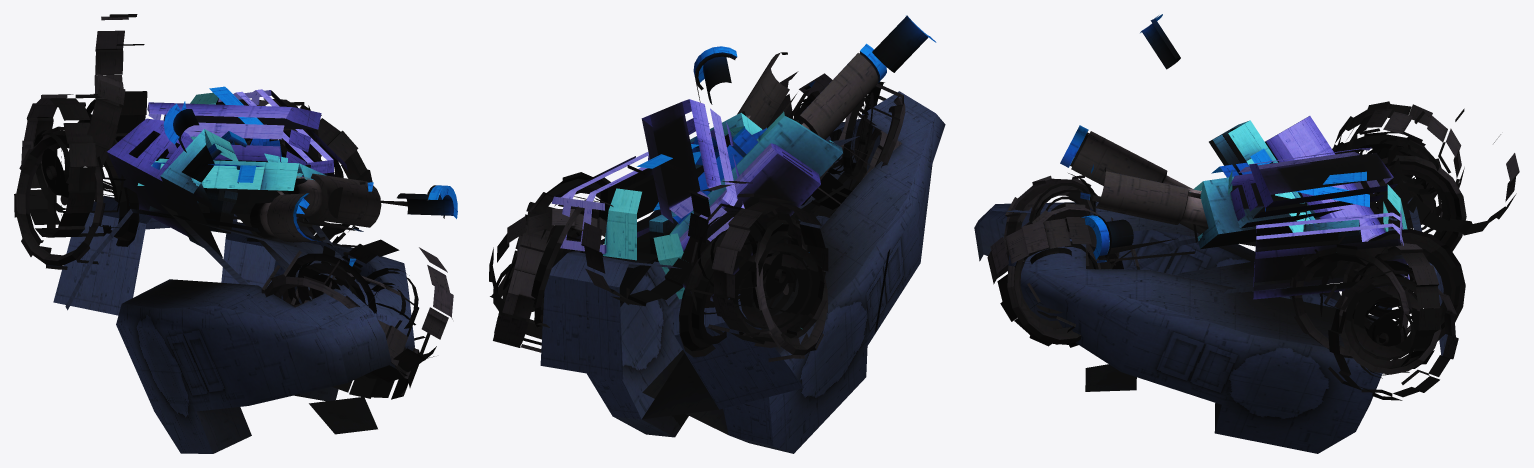
Rendered from PlayerA_Die13.obj.
3 renders of one model, left to right at view 1: azimuth 30°, elevation 25°; view 2: azimuth 150°, elevation 25°; view 3: azimuth 270°, elevation 25°, orthographic. The views are drawn at different scales.
Visible parts, largest first — view 1: Object001; view 2: Object001; view 3: Object001.
Part boxes in pixels (box(x1,y1,x2,y2)): Object001: box(14, 14, 457, 453); Object001: box(489, 15, 945, 453); Object001: box(974, 14, 1519, 453).
Size of the model in its own units: 108 by 125 by 166.
Materials: 1 (1 with a texture image).
